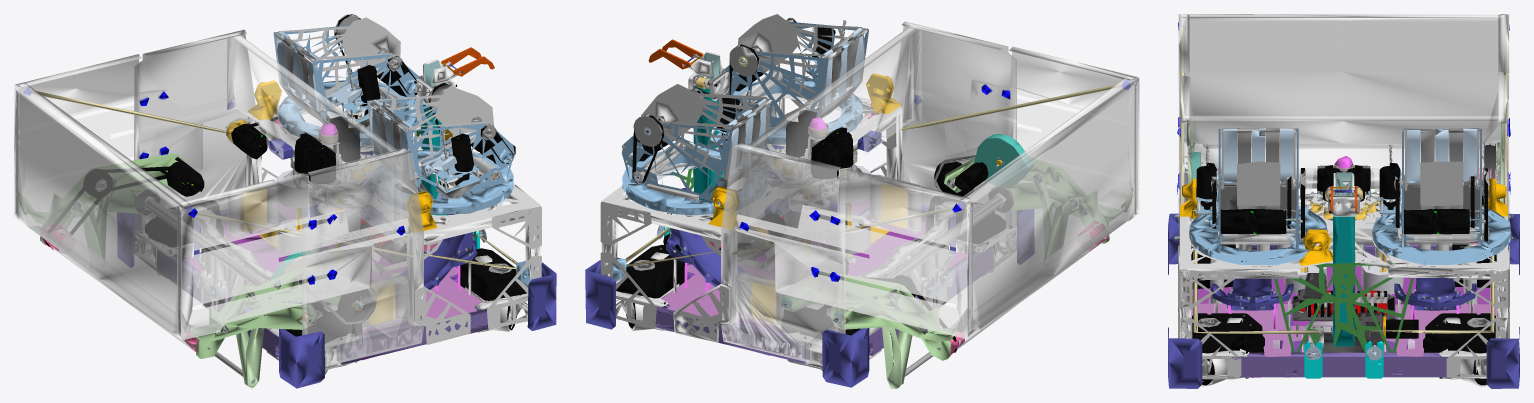
3 renders of one model, left to right at view 1: azimuth 30°, elevation 25°; view 2: azimuth 150°, elevation 25°; view 3: azimuth 270°, elevation 25°, orthographic. The views are drawn at different scales.
Parts seen in each view (by area): view 1: central roller, Lens (×2), #10-32 x 2.5" L SHCS (Steel, Black Oxide), Back Wall, GI-LeftBar1, Guide, Side Drivetrain Tube, Gearbox Spacer 2, id221, Kraken X44 Brushless Motor, Idler Dead Axle, WCP-0419-004 Rev2_5 (+16 smaller); view 2: central roller, Lens (×2), #10-32 x 2.5" L SHCS (Steel, Black Oxide), Back Wall, GI-LeftBar1, Guide, Kraken X44 Brushless Motor, Side Drivetrain Tube, id221, WCP-0419-004 Rev2_5, Idler Dead Axle, GI-LeftBar5 (+17 smaller); view 3: central roller, Lens (×2), #10-32 x 2.5" L SHCS (Steel, Black Oxide), Back Wall, Guide, Side Drivetrain Tube, Idler Dead Axle, id221, Gearbox Spacer 2, Spider Gusset, Brainpan, surgical tubing-Mirrored (+18 smaller).
Boxes of the visible parts, x1,y1,x2,y2 form: central roller: [14, 29, 426, 366]; Lens (×2): [194, 25, 541, 344]; #10-32 x 2.5" L SHCS (Steel, Black Oxide): [45, 15, 527, 370]; Back Wall: [227, 35, 396, 164]; GI-LeftBar1: [20, 153, 341, 358]; Guide: [117, 62, 556, 388]; Side Drivetrain Tube: [157, 209, 488, 364]; Gearbox Spacer 2: [142, 31, 486, 299]; id221: [336, 17, 493, 244]; Kraken X44 Brushless Motor: [146, 14, 521, 376]; Idler Dead Axle: [64, 38, 497, 384]; WCP-0419-004 Rev2_5: [134, 68, 528, 370]; central roller: [721, 21, 1139, 365]; Lens (×2): [600, 21, 955, 342]; #10-32 x 2.5" L SHCS (Steel, Black Oxide): [616, 19, 1010, 370]; Back Wall: [746, 27, 921, 164]; GI-LeftBar1: [781, 156, 1131, 360]; Guide: [585, 55, 1034, 387]; Kraken X44 Brushless Motor: [621, 17, 1002, 376]; Side Drivetrain Tube: [655, 205, 993, 363]; id221: [641, 14, 855, 242]; WCP-0419-004 Rev2_5: [616, 59, 1016, 369]; Idler Dead Axle: [636, 36, 1087, 334]; GI-LeftBar5: [878, 177, 1079, 388]; central roller: [1178, 14, 1509, 304]; Lens (×2): [1178, 128, 1511, 377]; #10-32 x 2.5" L SHCS (Steel, Black Oxide): [1191, 143, 1496, 385]; Back Wall: [1180, 116, 1507, 204]; Guide: [1168, 189, 1519, 388]; Side Drivetrain Tube: [1228, 243, 1459, 377]; Idler Dead Axle: [1184, 128, 1503, 327]; id221: [1237, 161, 1463, 347]; Gearbox Spacer 2: [1216, 128, 1476, 360]; Spider Gusset: [1274, 263, 1413, 352]; Brainpan: [1191, 303, 1496, 357]; surgical tubing-Mirrored: [1180, 24, 1507, 333].
Size of the model in its own units: 1.01 by 0.541 by 0.8048.
